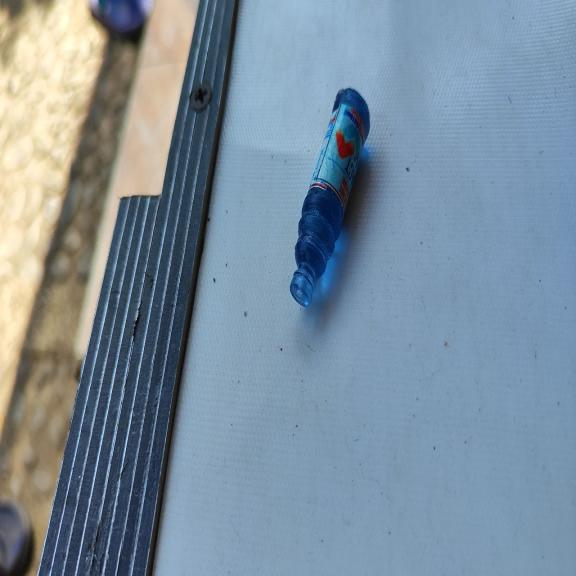Plastik: (289, 88, 370, 307)
